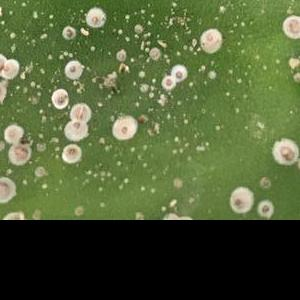Femea: (112, 119, 134, 138), (202, 30, 221, 45), (68, 122, 86, 137), (85, 8, 101, 24), (71, 104, 88, 119), (232, 192, 245, 210), (273, 142, 289, 156), (286, 18, 299, 35), (287, 147, 299, 165), (65, 144, 78, 160), (52, 93, 68, 106), (4, 127, 19, 140), (66, 62, 79, 76), (0, 178, 8, 200), (172, 66, 185, 79), (7, 60, 18, 74), (260, 202, 272, 214), (24, 147, 36, 159), (162, 77, 173, 89), (63, 27, 73, 40), (16, 141, 26, 153), (0, 55, 7, 71), (149, 49, 159, 59), (118, 50, 125, 61)
Linfa: (90, 70, 120, 91), (81, 161, 102, 180), (134, 32, 151, 51), (176, 44, 201, 56), (130, 143, 148, 159), (96, 137, 114, 153), (100, 170, 116, 183), (116, 64, 132, 74), (156, 92, 167, 105), (111, 27, 122, 40), (118, 177, 129, 190), (194, 142, 208, 152), (137, 83, 147, 93), (79, 26, 89, 36), (156, 38, 167, 47), (61, 48, 72, 57), (169, 199, 177, 208), (189, 38, 196, 48), (38, 32, 47, 39), (186, 81, 194, 88), (208, 71, 215, 78), (8, 32, 15, 39), (138, 70, 144, 78), (161, 204, 167, 212), (123, 35, 129, 42), (89, 45, 96, 51), (116, 160, 123, 166), (139, 185, 145, 192), (41, 182, 48, 188), (57, 54, 64, 60), (176, 100, 182, 106), (224, 91, 230, 97), (146, 91, 153, 96), (193, 93, 198, 100), (236, 77, 242, 82), (227, 68, 233, 73), (150, 78, 156, 82)
